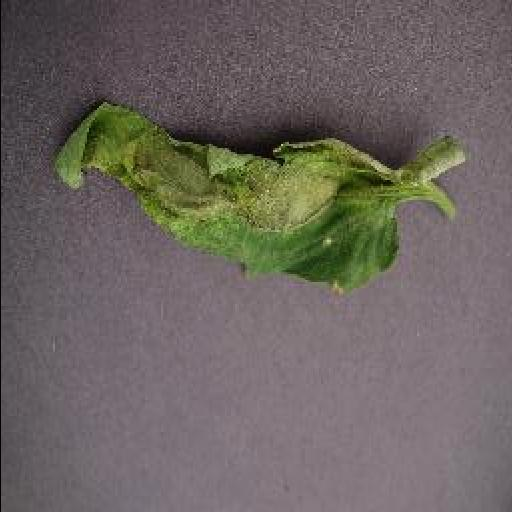disease_tomato: (48, 102, 402, 294)
